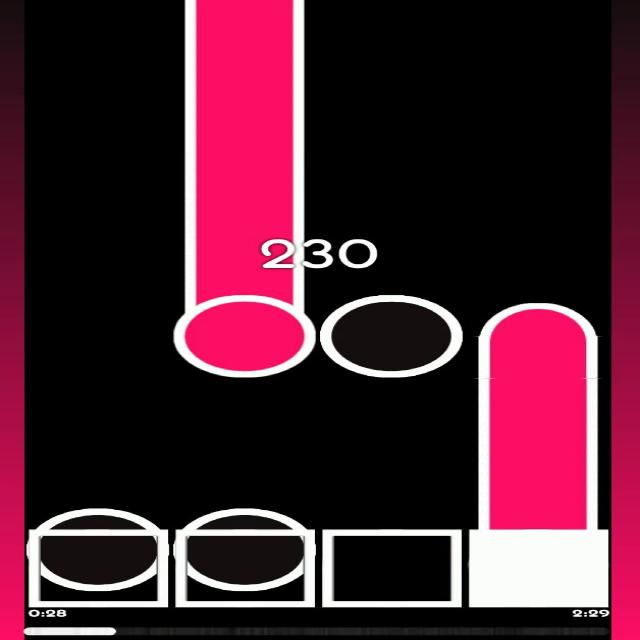end_hold: (477, 288, 597, 344)
note: (320, 293, 463, 378), (26, 508, 169, 591), (173, 508, 316, 590)
start_hold: (173, 277, 316, 377)
